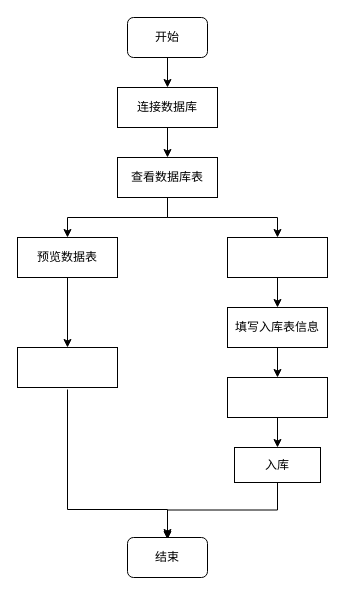
The diagram is 345 pixels wide and 595 high, and some of its shapes have lost their labels. The centre of each missing label's shape, as x and y in pixels:
勾选入库表字段: the point at 277,397
支持条件过滤: the point at 67,367
数据表入库: the point at 277,257
